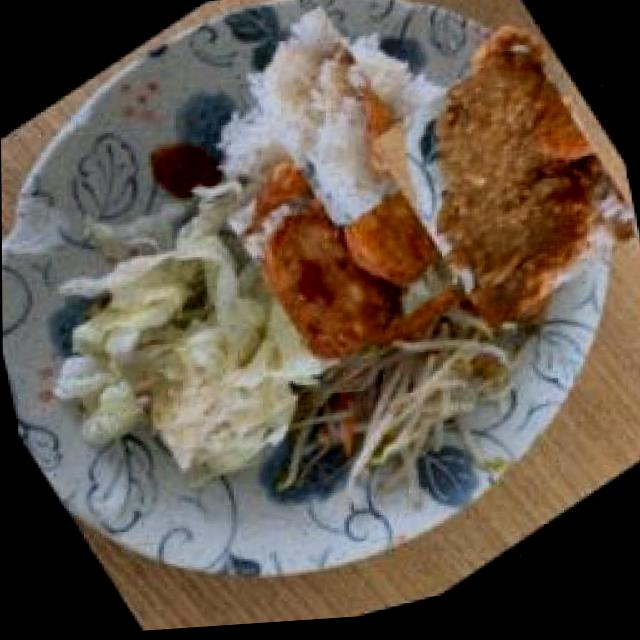chinese_cabbage: (71, 202, 341, 496)
fried_chicken: (357, 26, 640, 361)
mung_bean_sprouts: (312, 313, 516, 494)
rice: (213, 2, 448, 247)
triangle_hash_brown: (224, 114, 495, 398)
